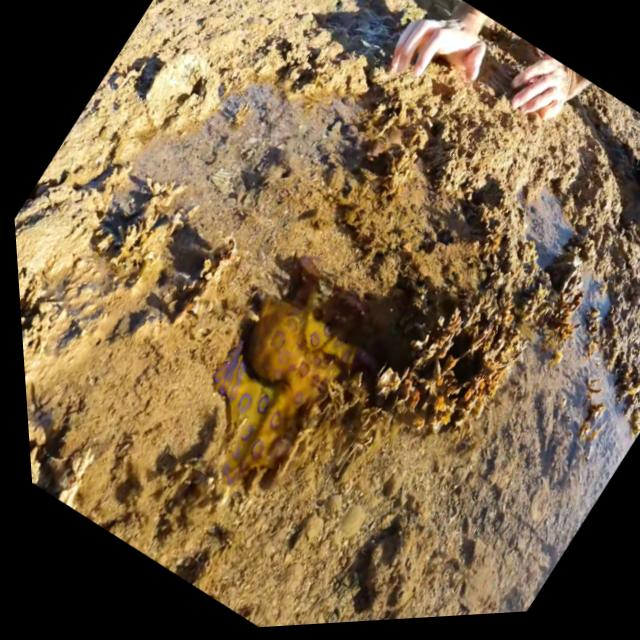blue_ringed_octopus: (141, 233, 428, 538)
